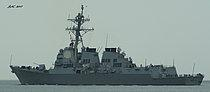MIL_Ship: (8, 5, 204, 85)
